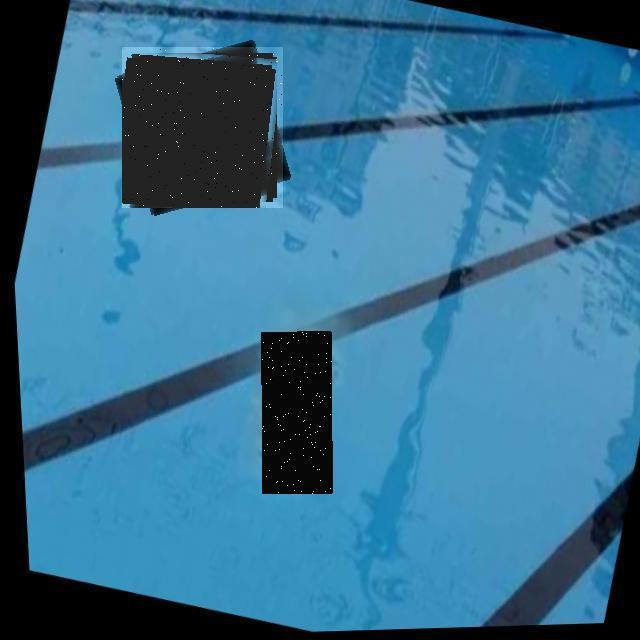swimming: (122, 47, 283, 208), (262, 332, 332, 494)
